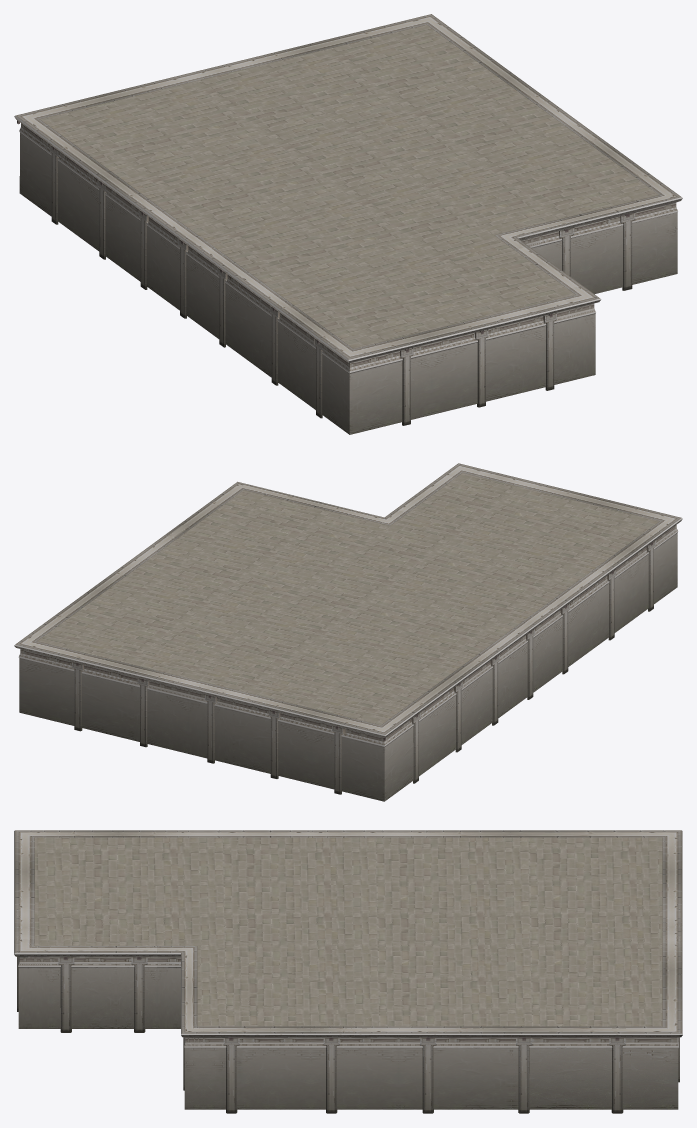
The model's file is mod_zlc_jianzhu069_xy04.FBX.
3 views of the same model, one above another, from view 1: azimuth 30°, elevation 25°; view 2: azimuth 150°, elevation 25°; view 3: azimuth 270°, elevation 25° (orthographic). The views are drawn at different scales.
Visible parts, largest first — view 1: mod_zlc_jianzhu069_xy04; view 2: mod_zlc_jianzhu069_xy04; view 3: mod_zlc_jianzhu069_xy04.
Part boxes in pixels (box(x1,y1,x2,y2)): mod_zlc_jianzhu069_xy04: box(14, 14, 682, 434); mod_zlc_jianzhu069_xy04: box(14, 463, 682, 801); mod_zlc_jianzhu069_xy04: box(14, 830, 682, 1113).
Bounding box in the file's own units: 65.88 × 12.15 × 91.35.
Materials: 2 (2 with a texture image).
